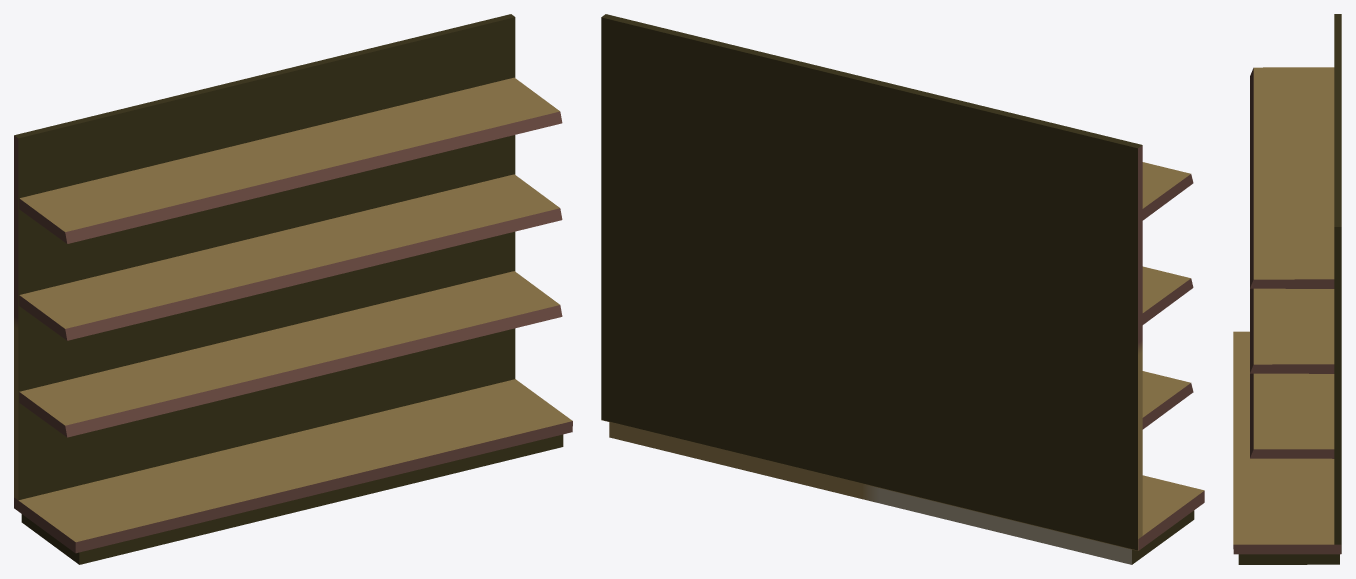
The model's file is shelve1.fbx.
The picture shows the model from 3 angles, left to right: view 1: azimuth 30°, elevation 25°; view 2: azimuth 150°, elevation 25°; view 3: azimuth 270°, elevation 25°; orthographic projection. The views are drawn at different scales.
Parts seen in each view (by area): view 1: bottom.003; view 2: bottom.003; view 3: bottom.003.
Boxes of the visible parts, x1,y1,x2,y2 form: bottom.003: (14, 14, 572, 564); bottom.003: (601, 14, 1204, 564); bottom.003: (1233, 14, 1341, 564).
Size of the model in its own units: 2689 by 2007 by 578.
